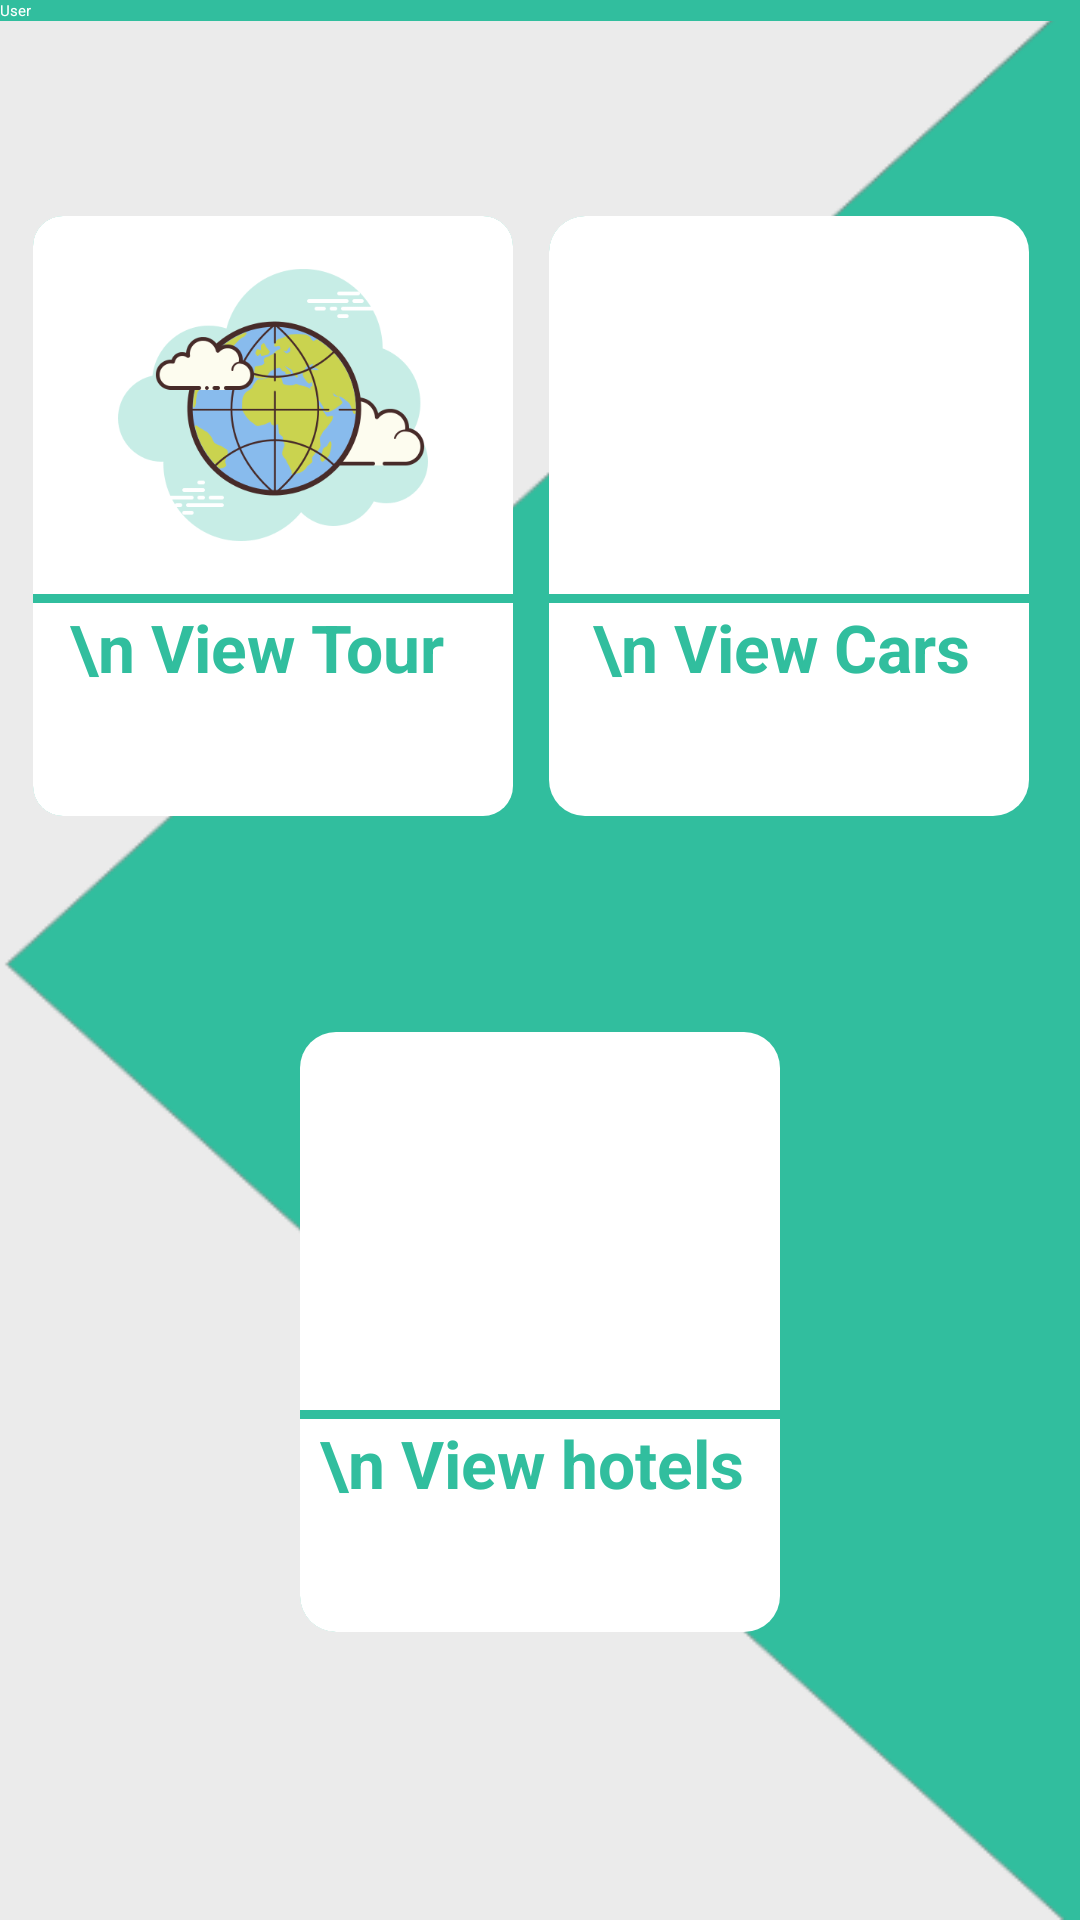

Point at icon controls on the screen. Image size 1080w x 1920h, points as (x=x, y=y).
world: (x=273, y=405)
